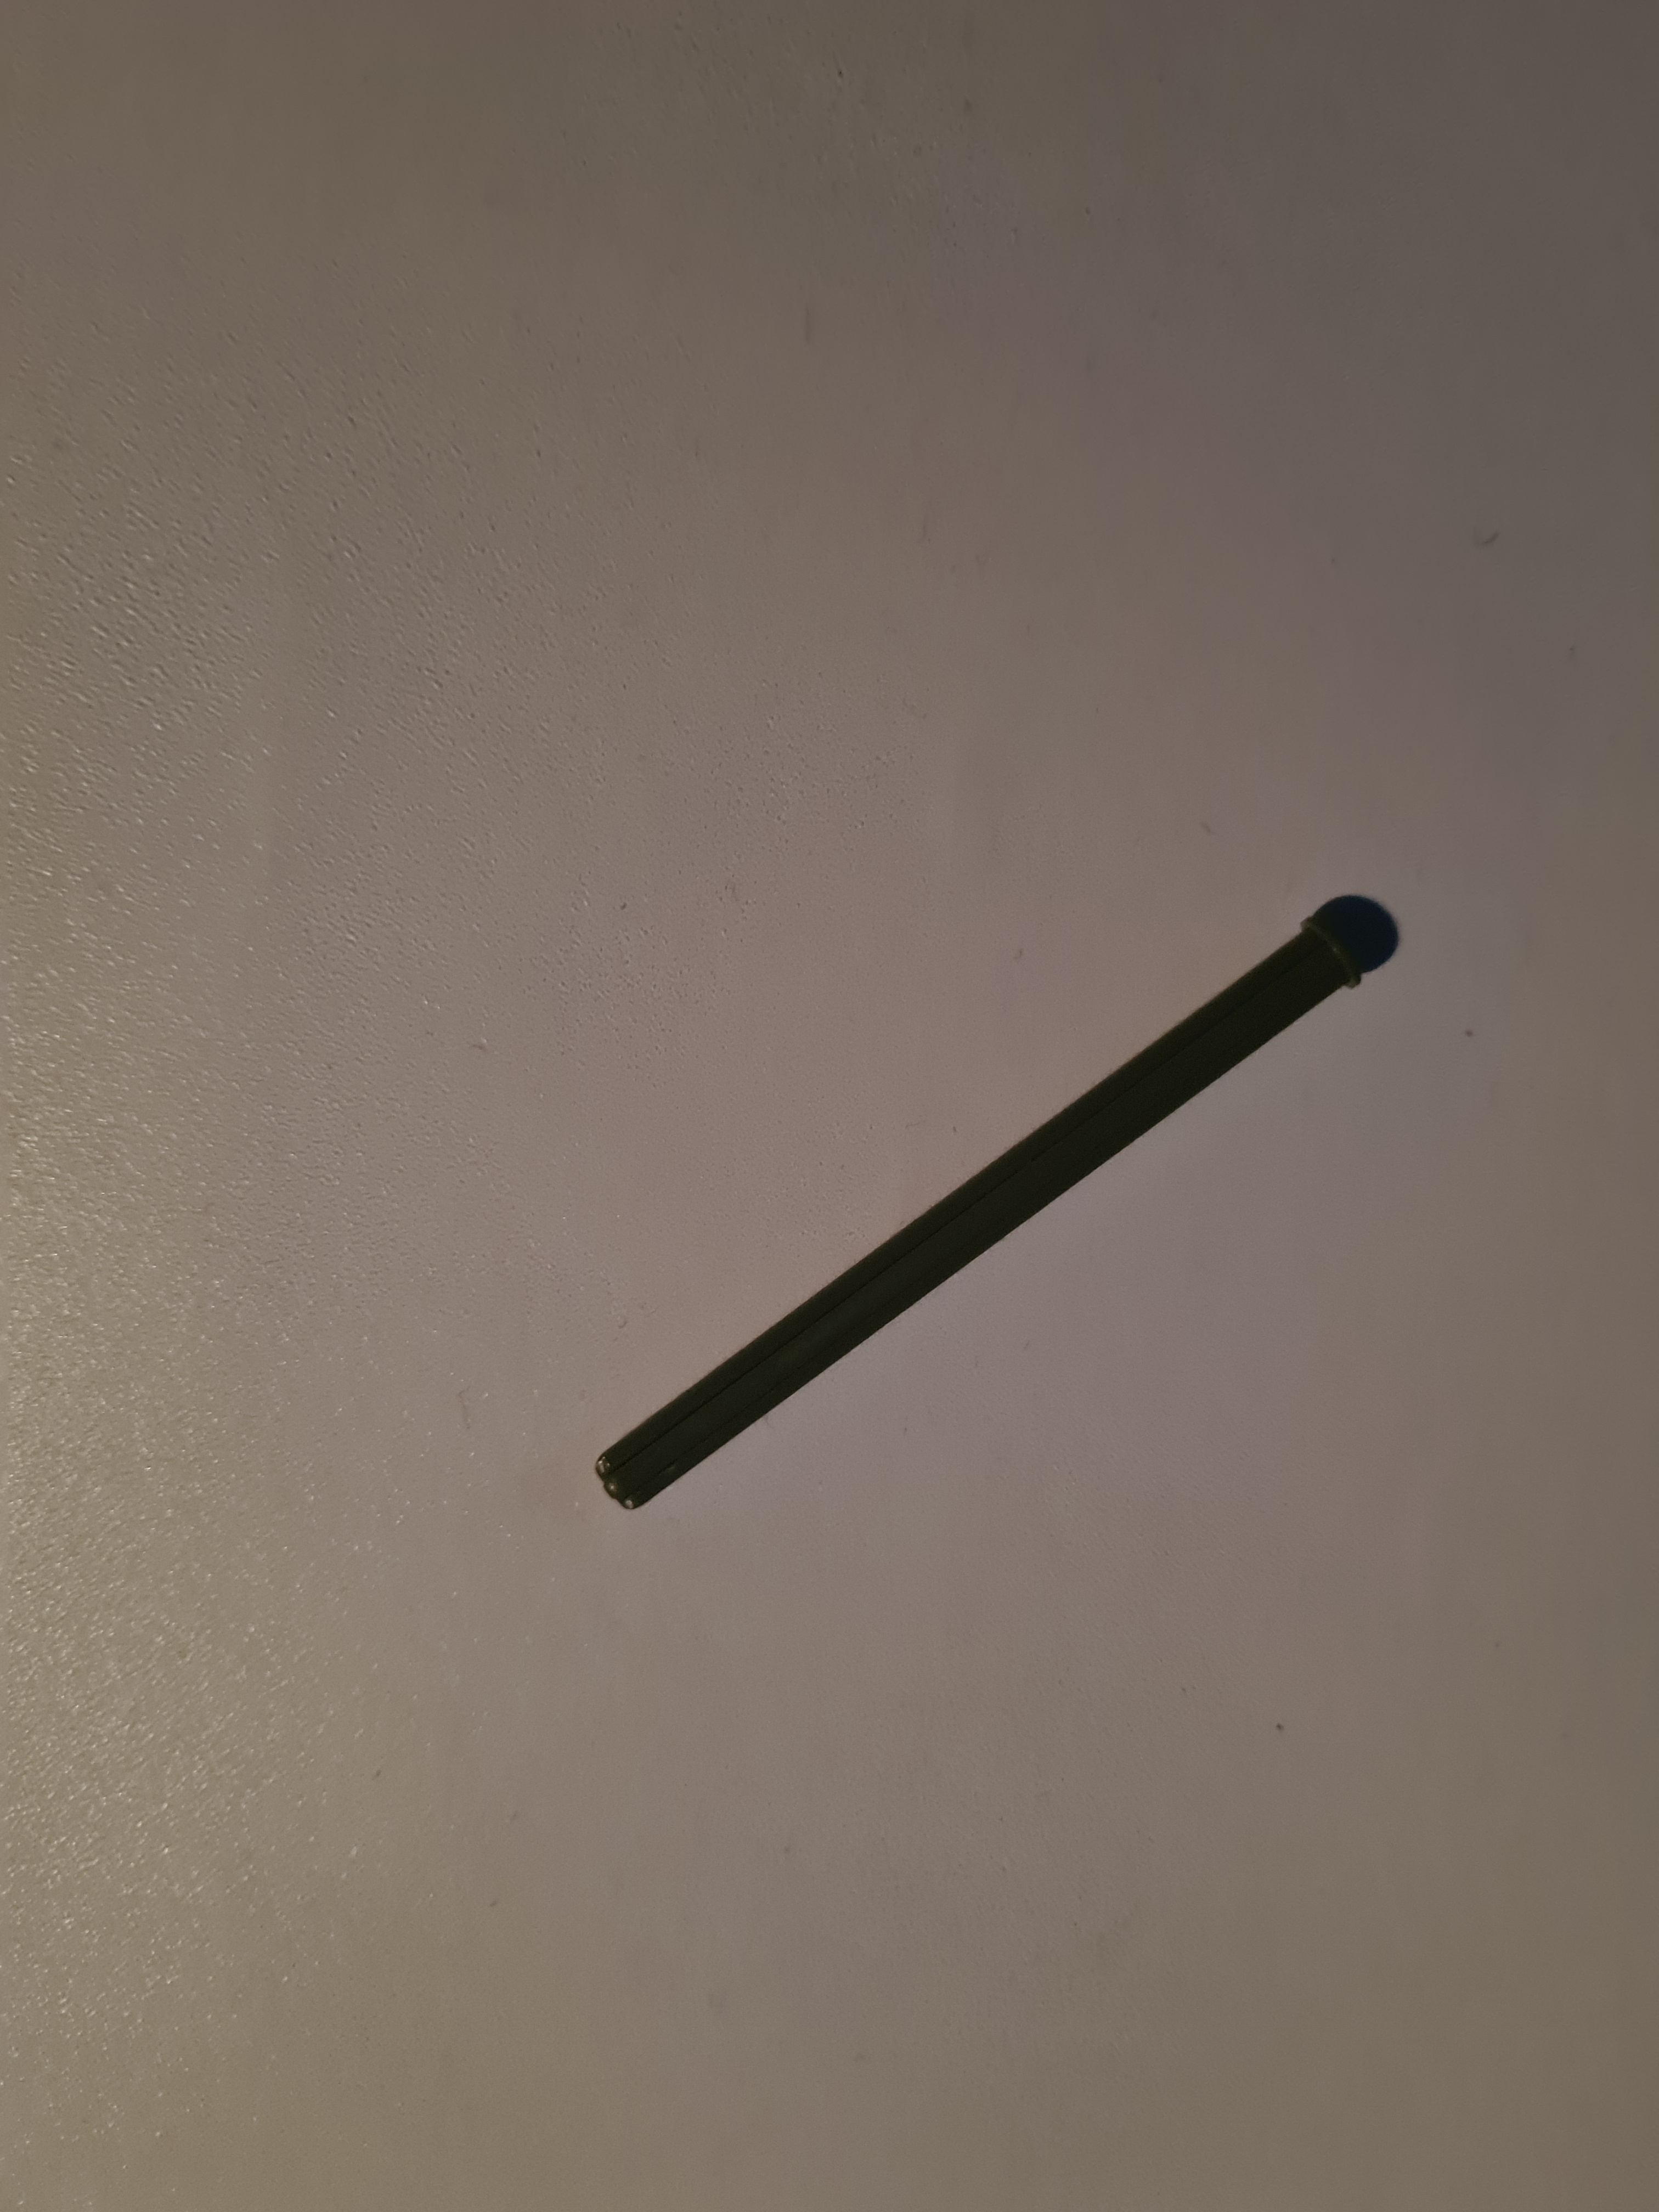Grau_lang: (558, 869, 1417, 1531)
